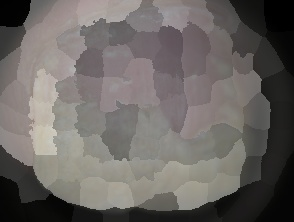Nail_psoriasis: (19, 4, 255, 213)
